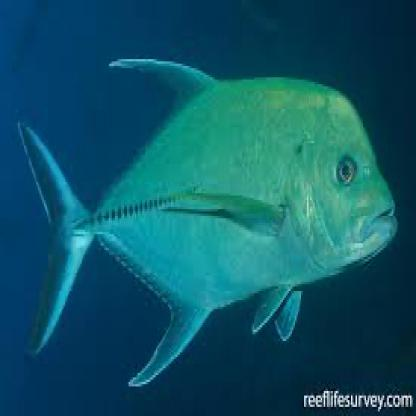jack: (4, 28, 399, 401)
